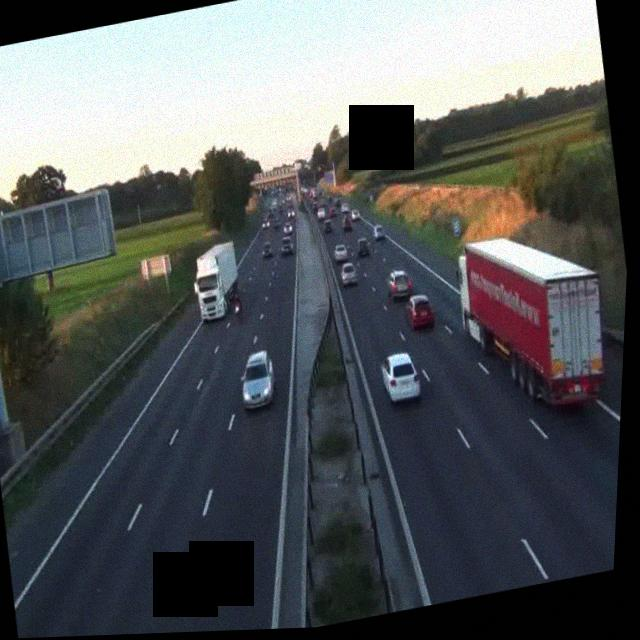car: (236, 348, 281, 411), (379, 348, 423, 405), (405, 291, 437, 330), (386, 267, 413, 301), (227, 288, 245, 315), (339, 261, 359, 285), (333, 243, 350, 264), (355, 238, 371, 258), (280, 237, 294, 257), (372, 224, 387, 242), (341, 217, 354, 232), (323, 218, 335, 234), (262, 241, 274, 257), (282, 223, 295, 237), (315, 210, 326, 225), (262, 219, 272, 231)
truck: (445, 218, 621, 425), (189, 241, 245, 323)
